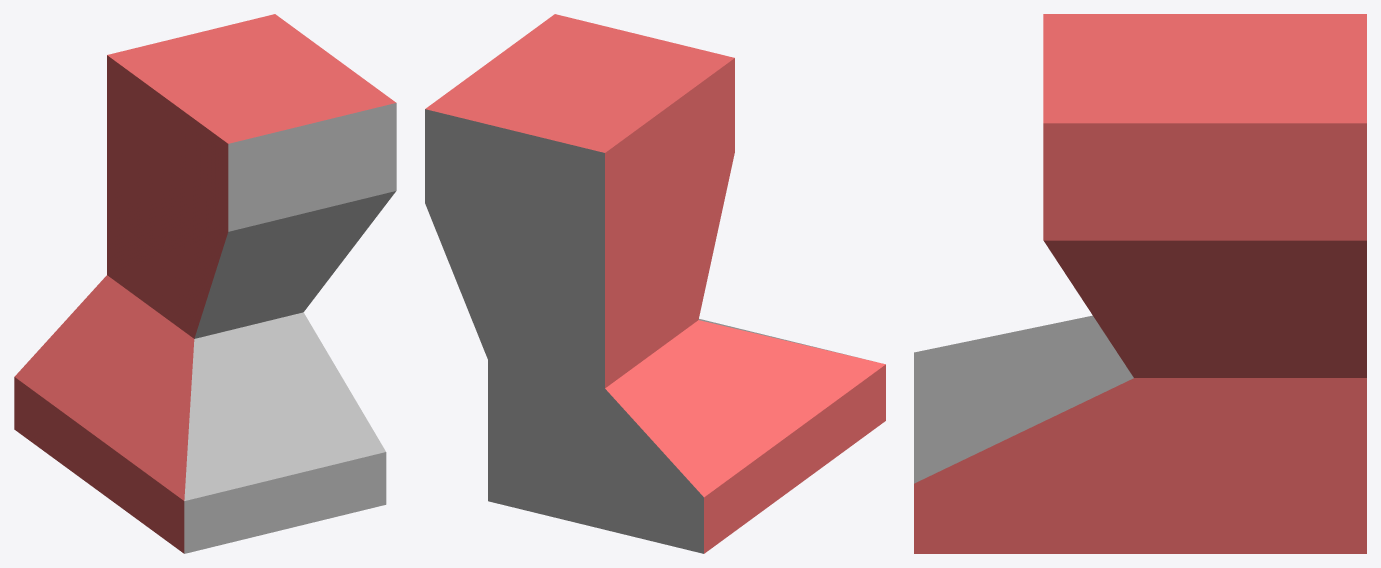
3 views of the same model, side by side, from view 1: azimuth 30°, elevation 25°; view 2: azimuth 150°, elevation 25°; view 3: azimuth 270°, elevation 25° (orthographic). The views are drawn at different scales.
Parts seen in each view (by area): view 1: 34-6.SLDPRT; view 2: 34-6.SLDPRT; view 3: 34-6.SLDPRT.
Boxes of the visible parts, bbox=[...] form: 34-6.SLDPRT: bbox=[14, 14, 396, 553]; 34-6.SLDPRT: bbox=[425, 14, 885, 553]; 34-6.SLDPRT: bbox=[914, 14, 1366, 553].
Bounding box in the file's own units: 0.031 × 0.04 × 0.035.
